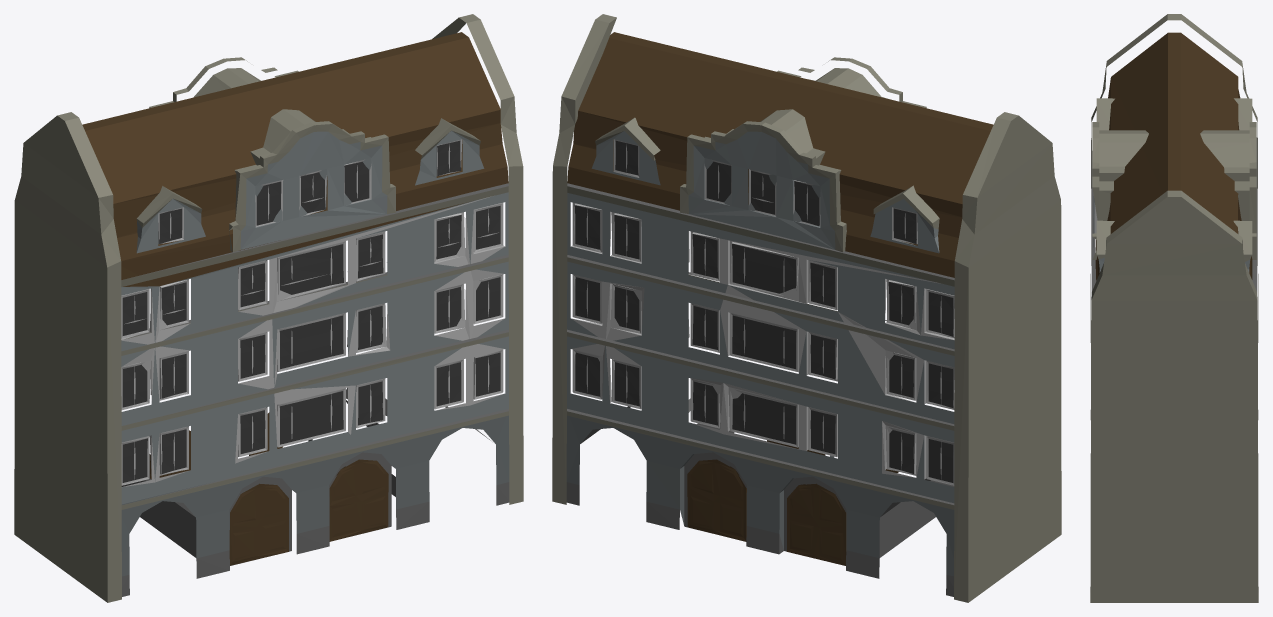
Rendered from city-gable-long.glb.
3 renders of one model, left to right at view 1: azimuth 30°, elevation 25°; view 2: azimuth 150°, elevation 25°; view 3: azimuth 270°, elevation 25°, orthographic. The views are drawn at different scales.
Parts seen in each view (by area): view 1: Building2_Large_Cube.007; view 2: Building2_Large_Cube.007; view 3: Building2_Large_Cube.007.
Boxes of the visible parts, bbox=[...] form: Building2_Large_Cube.007: bbox=[14, 14, 523, 602]; Building2_Large_Cube.007: bbox=[552, 14, 1061, 602]; Building2_Large_Cube.007: bbox=[1090, 14, 1258, 602].
Bounding box in the file's own units: 12.58 × 13.02 × 4.88.
